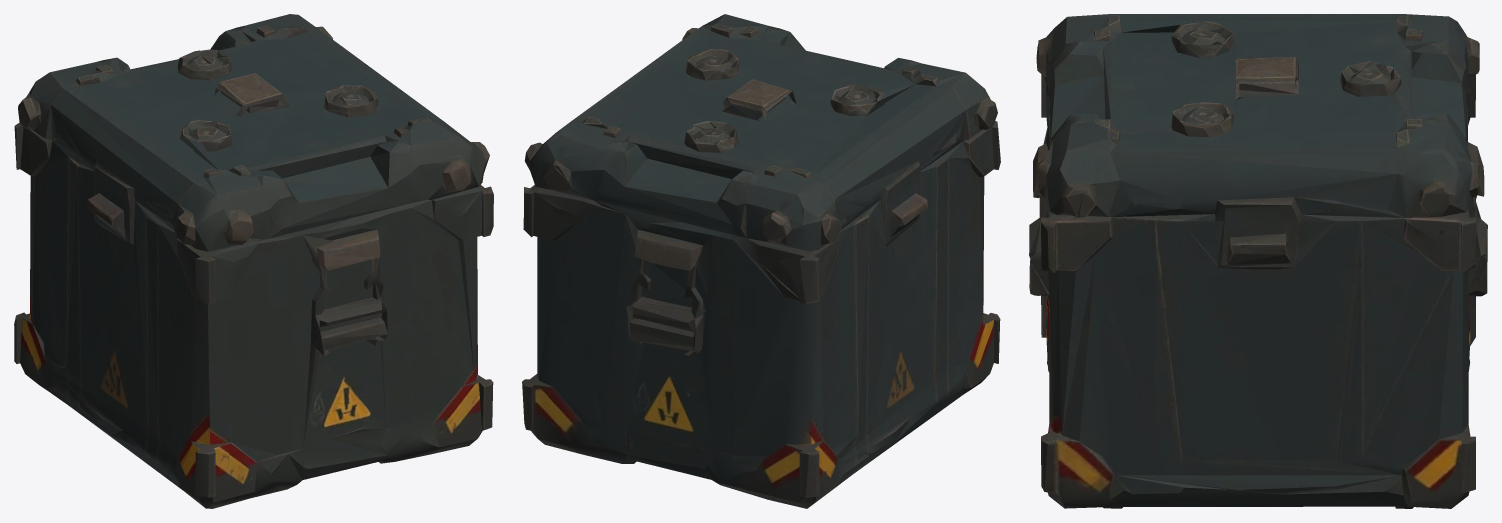
The model's file is supply_chest.glb.
3 renders of one model, left to right at view 1: azimuth 30°, elevation 25°; view 2: azimuth 150°, elevation 25°; view 3: azimuth 270°, elevation 25°, orthographic. The views are drawn at different scales.
Size of the model in its own units: 0.8702 by 0.9 by 0.9827.
Materials: 1 (1 with a texture image).
